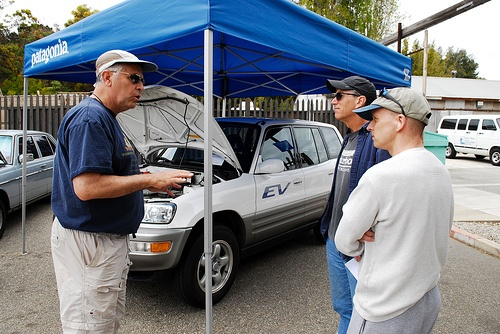head: (364, 85, 434, 163), (94, 50, 145, 115), (326, 76, 376, 131)
person: (48, 46, 183, 332), (328, 91, 451, 333), (313, 63, 391, 316)
